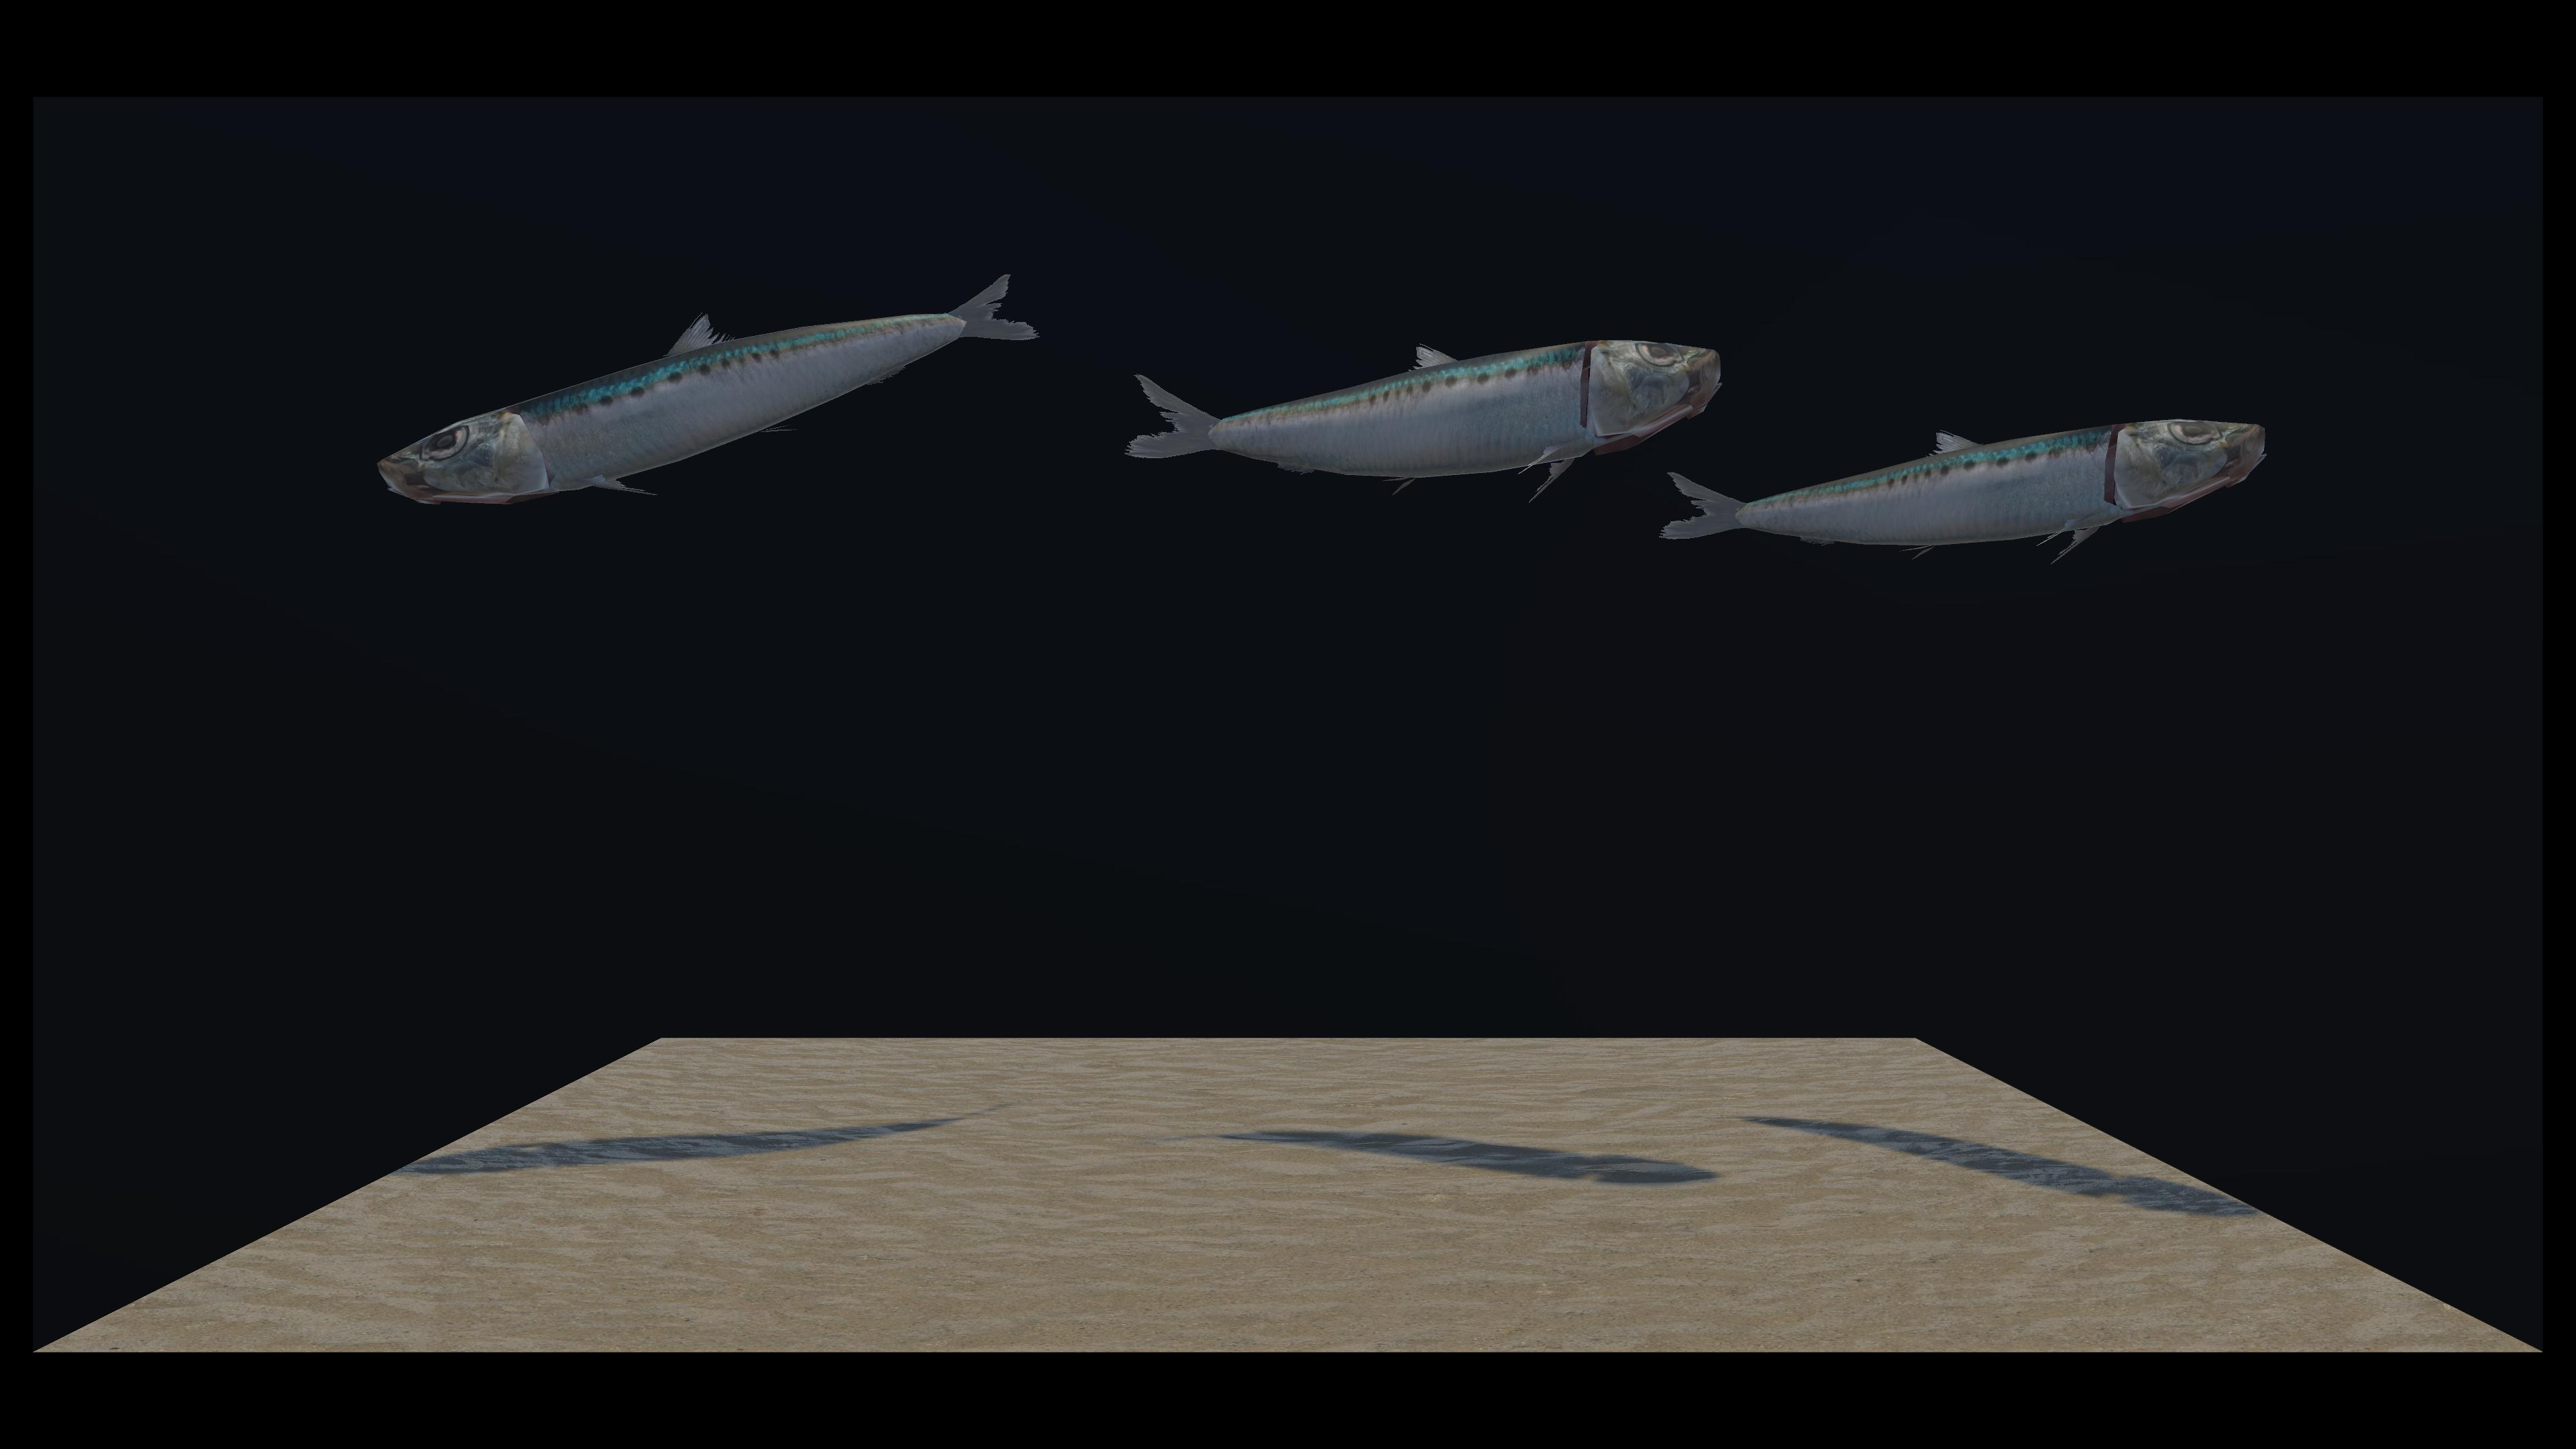Sardine_Front: (879, 363, 2256, 573), (386, 271, 1033, 531), (782, 349, 1713, 506)
